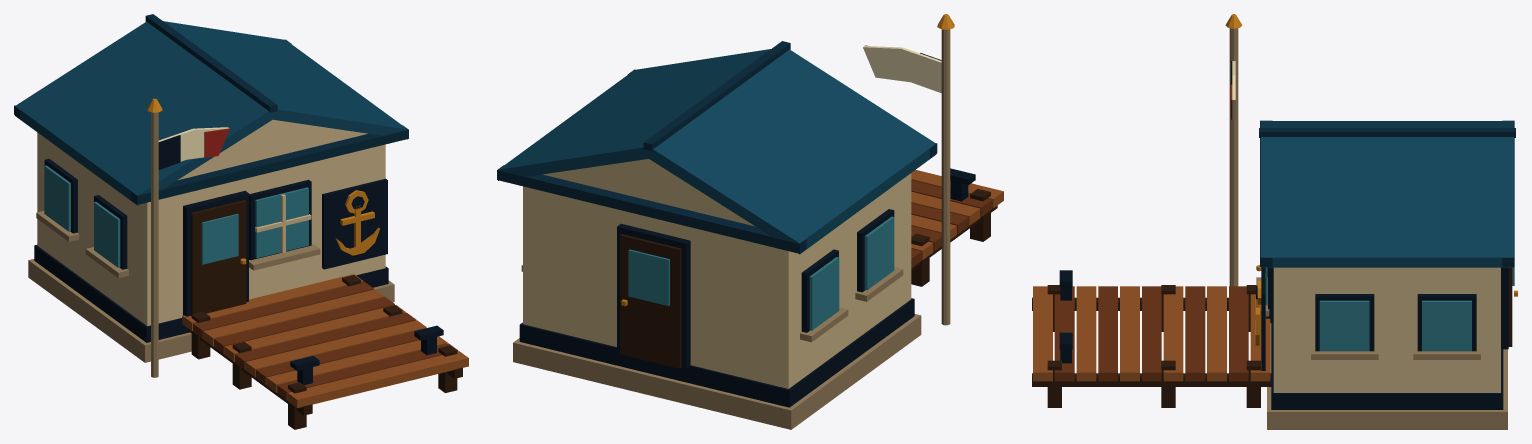
The model's file is marina-captaincy-narrow.glb.
3 views of the same model, side by side, from view 1: azimuth 30°, elevation 25°; view 2: azimuth 150°, elevation 25°; view 3: azimuth 270°, elevation 25° (orthographic). The views are drawn at different scales.
Parts seen in each view (by area): view 1: MarinaCaptaincy; view 2: MarinaCaptaincy; view 3: MarinaCaptaincy.
Part boxes in pixels (x1,y1,x2,y2): MarinaCaptaincy: [14, 14, 468, 429]; MarinaCaptaincy: [497, 14, 1003, 429]; MarinaCaptaincy: [1032, 14, 1517, 429].
Bounding box in the file's own units: 5.75 × 5.55 × 8.54.
Materials: 1 (1 with a texture image).
